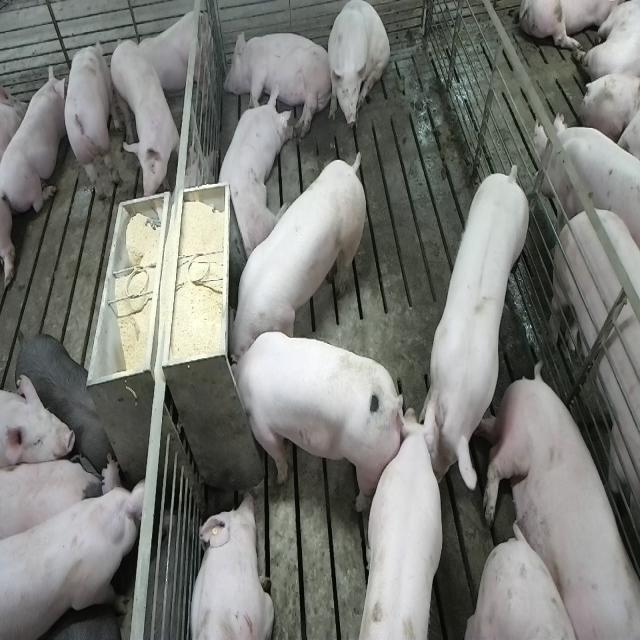Feeding: (220, 330, 397, 512), (229, 144, 370, 362)
Lateral_lying: (224, 28, 334, 142)
Sitting: (326, 2, 390, 136)
Standing: (550, 195, 640, 640), (421, 155, 535, 488), (2, 458, 147, 640), (359, 402, 452, 640), (534, 107, 640, 248), (13, 330, 112, 460), (109, 39, 182, 205), (0, 449, 104, 551), (62, 32, 113, 204)
Sternal_lying: (212, 87, 290, 259), (186, 489, 274, 640), (2, 61, 64, 214), (126, 5, 214, 101)
